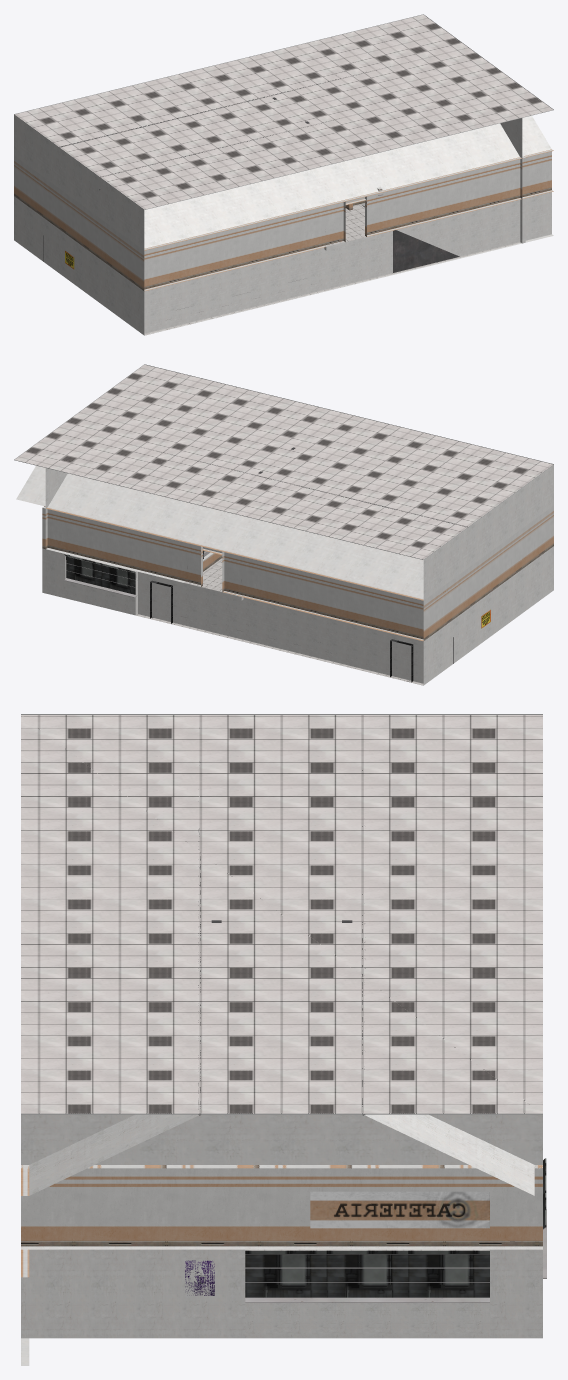
Rendered from OZ_room2_cafeteria.obj.
3 renders of one model, top to bottom at view 1: azimuth 30°, elevation 25°; view 2: azimuth 150°, elevation 25°; view 3: azimuth 270°, elevation 25°, orthographic. The views are drawn at different scales.
Visible parts, largest first — view 1: OZ_room2_cafeteria; view 2: OZ_room2_cafeteria; view 3: OZ_room2_cafeteria.
Boxes of the visible parts, x1,y1,x2,y2 form: OZ_room2_cafeteria: [14, 14, 553, 335]; OZ_room2_cafeteria: [14, 364, 553, 685]; OZ_room2_cafeteria: [21, 714, 546, 1365].
Bounding box in the file's own units: 37.44 × 10.92 × 20.64.
